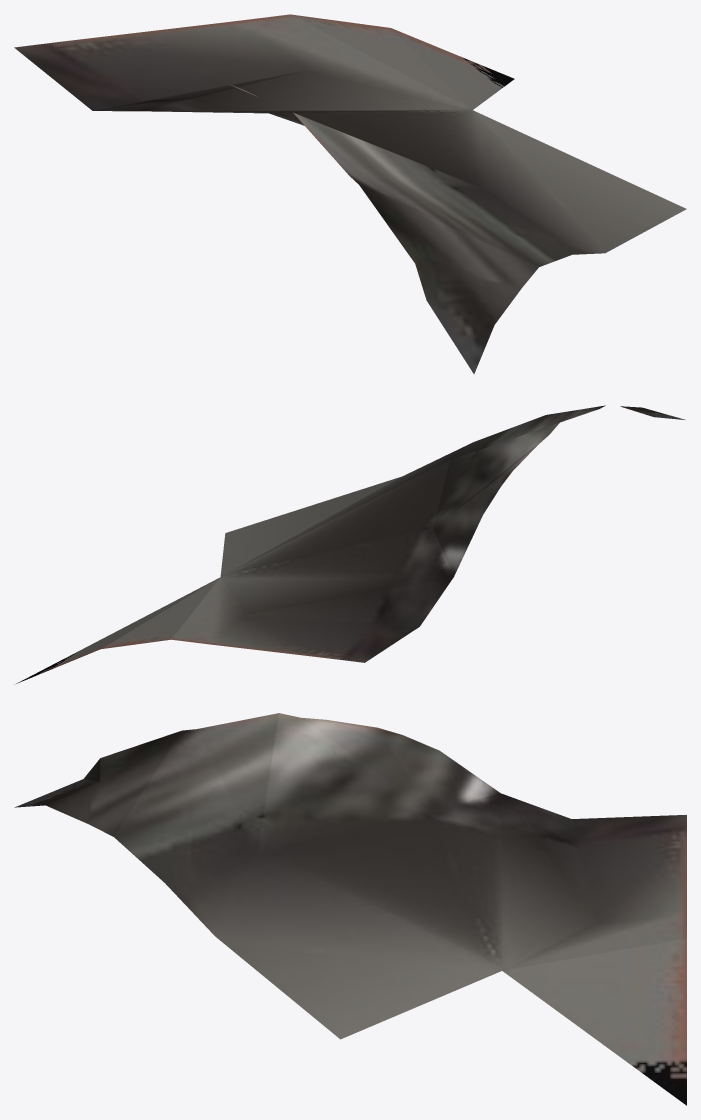
3 views of the same model, one above another, from view 1: azimuth 30°, elevation 25°; view 2: azimuth 150°, elevation 25°; view 3: azimuth 270°, elevation 25° (orthographic). The views are drawn at different scales.
Bounding box in the file's own units: 0.7083 × 0.3955 × 1.13.
Materials: 1 (1 with a texture image).
